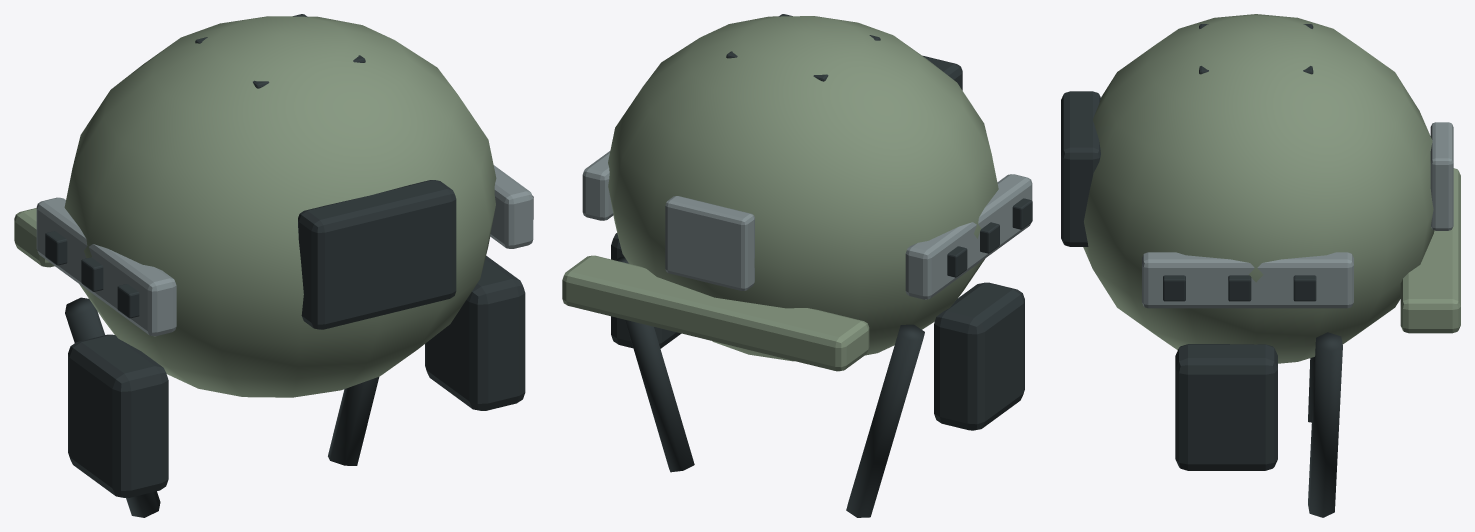
The model's file is helmet_moss_3b.glb.
The picture shows the model from 3 angles, left to right: view 1: azimuth 30°, elevation 25°; view 2: azimuth 150°, elevation 25°; view 3: azimuth 270°, elevation 25°; orthographic projection. The views are drawn at different scales.
Visible parts, largest first — view 1: helmet_moss_3b; view 2: helmet_moss_3b; view 3: helmet_moss_3b.
Boxes of the visible parts, x1=… form: helmet_moss_3b: x1=14, y1=14, x2=533, y2=517; helmet_moss_3b: x1=562, y1=14, x2=1032, y2=517; helmet_moss_3b: x1=1061, y1=14, x2=1460, y2=517.
Bounding box in the file's own units: 0.263 × 0.2936 × 0.245.
